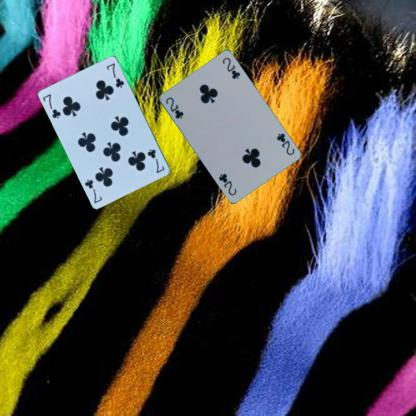2c: (163, 94, 185, 120), (274, 130, 295, 156)
7c: (40, 91, 62, 120), (145, 146, 166, 175)
